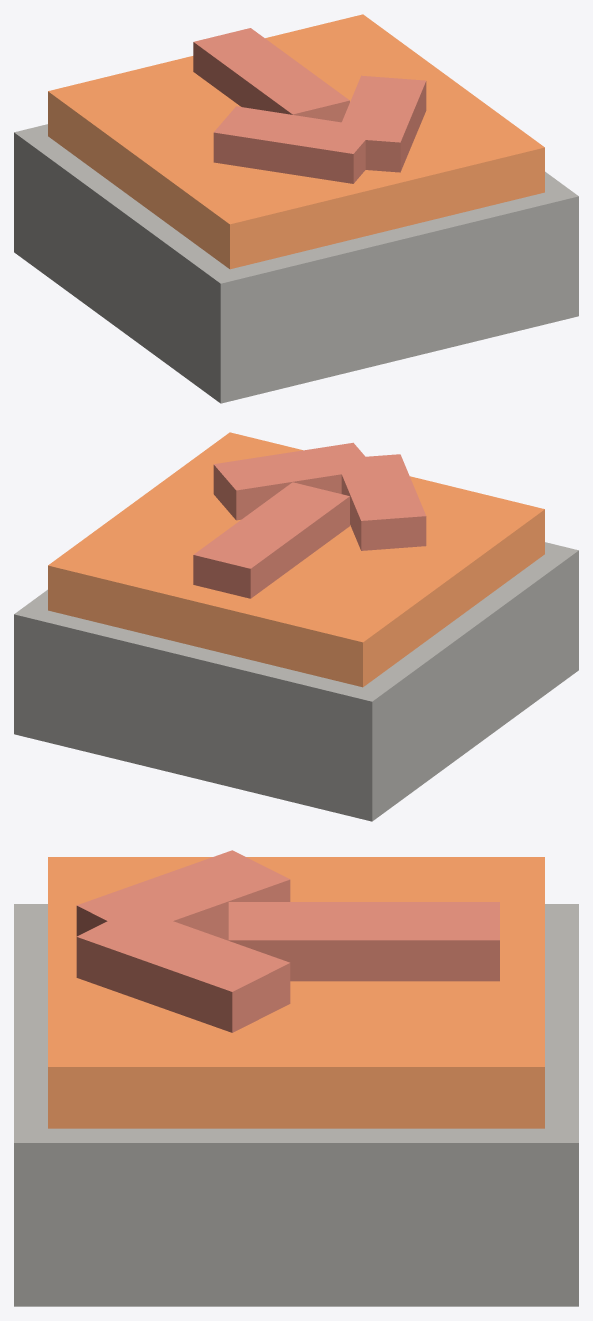
File: build_cart_back.glb
3 renders of one model, top to bottom at view 1: azimuth 30°, elevation 25°; view 2: azimuth 150°, elevation 25°; view 3: azimuth 270°, elevation 25°, orthographic. The views are drawn at different scales.
Parts seen in each view (by area): view 1: Baked; view 2: Baked; view 3: Baked.
Boxes of the visible parts, x1,y1,x2,y2 form: Baked: [14, 14, 578, 403]; Baked: [14, 432, 578, 821]; Baked: [14, 850, 578, 1306].
Size of the model in its own units: 0.5 by 0.26 by 0.5.
